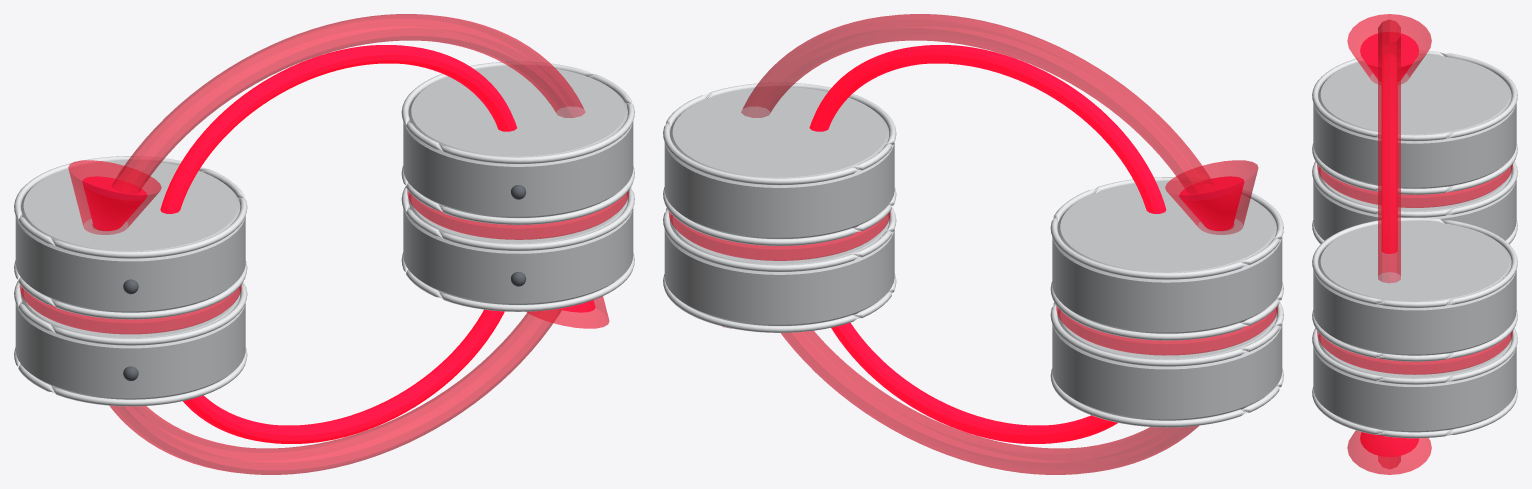
Rendered from 35-synchronization.glb.
The picture shows the model from 3 angles, left to right: view 1: azimuth 30°, elevation 25°; view 2: azimuth 150°, elevation 25°; view 3: azimuth 270°, elevation 25°; orthographic projection. The views are drawn at different scales.
Visible parts, largest first — view 1: BC satin iron, BC ruby optical glass, BC polished iron bevel, BC internal ruby light, BC recessed iron; view 2: BC satin iron, BC ruby optical glass, BC polished iron bevel, BC internal ruby light; view 3: BC satin iron, BC ruby optical glass, BC polished iron bevel, BC internal ruby light.
Boxes of the visible parts, x1,y1,x2,y2 form: BC satin iron: (15, 66, 633, 399); BC ruby optical glass: (19, 14, 629, 474); BC polished iron bevel: (14, 62, 634, 406); BC internal ruby light: (82, 45, 595, 443); BC recessed iron: (123, 185, 526, 380); BC satin iron: (664, 87, 1282, 420); BC ruby optical glass: (668, 14, 1278, 474); BC polished iron bevel: (663, 83, 1283, 427); BC internal ruby light: (809, 45, 1244, 443); BC satin iron: (1313, 54, 1516, 432); BC ruby optical glass: (1317, 14, 1512, 474); BC polished iron bevel: (1312, 51, 1517, 438); BC internal ruby light: (1360, 32, 1418, 457).
Size of the model in its own units: 2.13 by 1.53 by 0.7298.
